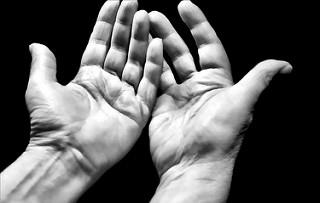palm: (53, 62, 134, 167), (159, 81, 239, 163)
